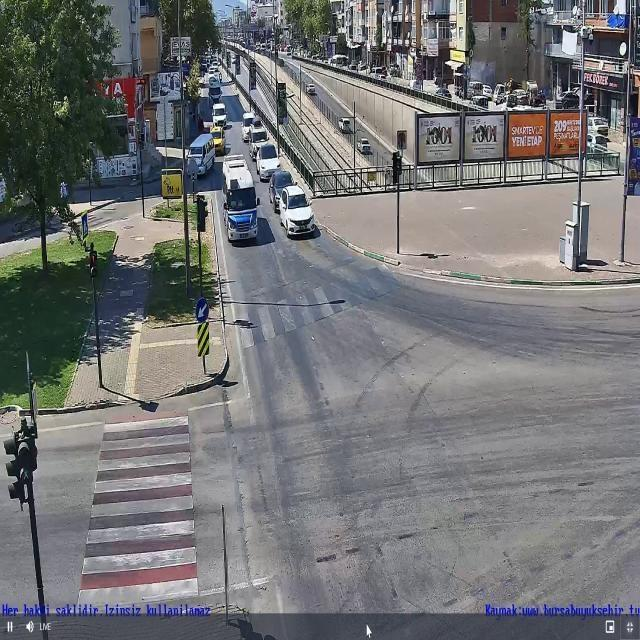Bus: (223, 153, 260, 244), (186, 133, 216, 178), (208, 86, 223, 109)
Car: (276, 185, 320, 239), (268, 171, 296, 206), (209, 125, 225, 154), (357, 137, 371, 154), (339, 116, 352, 134), (306, 83, 316, 94)
Van: (256, 143, 282, 182), (249, 126, 268, 157), (242, 110, 259, 144), (212, 104, 228, 130)
